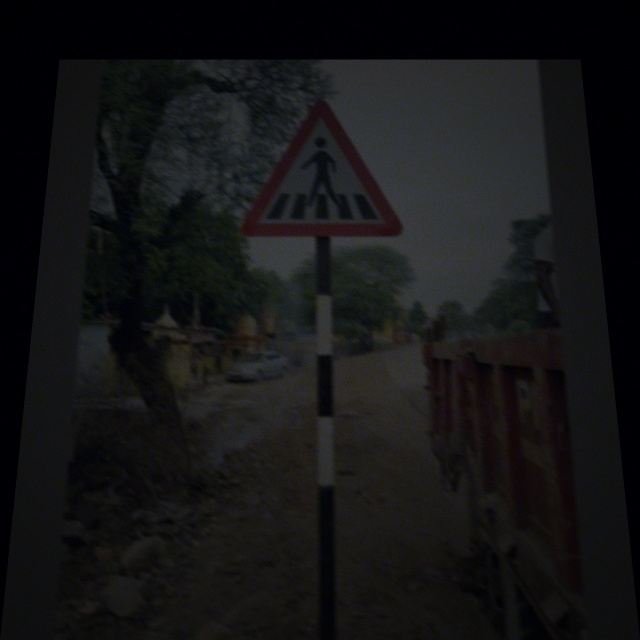Pedestrian_Crossing: (242, 102, 411, 240)
